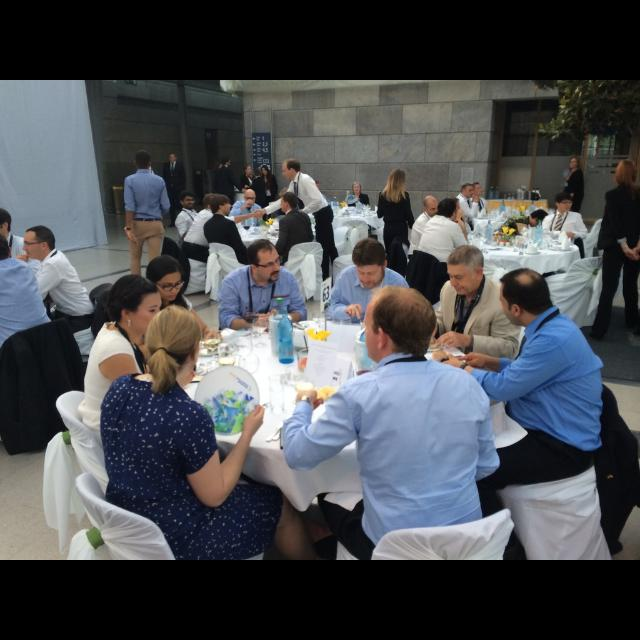Flower: (308, 326, 328, 340), (265, 218, 275, 226), (517, 204, 525, 213), (338, 202, 348, 208), (502, 227, 508, 235)
